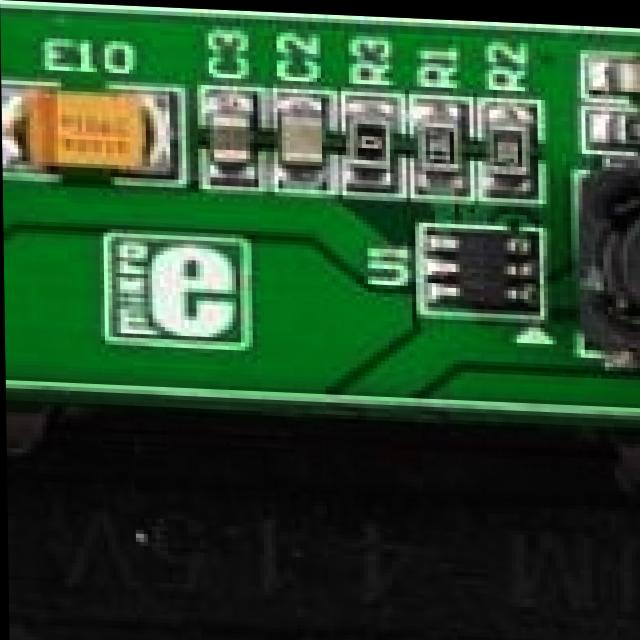IC: (438, 223, 539, 309)
capacitor: (5, 88, 174, 174), (201, 99, 260, 175), (281, 98, 336, 174), (592, 53, 640, 90)
inductor: (586, 168, 640, 358)
resistor: (489, 117, 542, 199), (349, 100, 398, 188), (409, 106, 464, 184), (597, 113, 640, 146)
